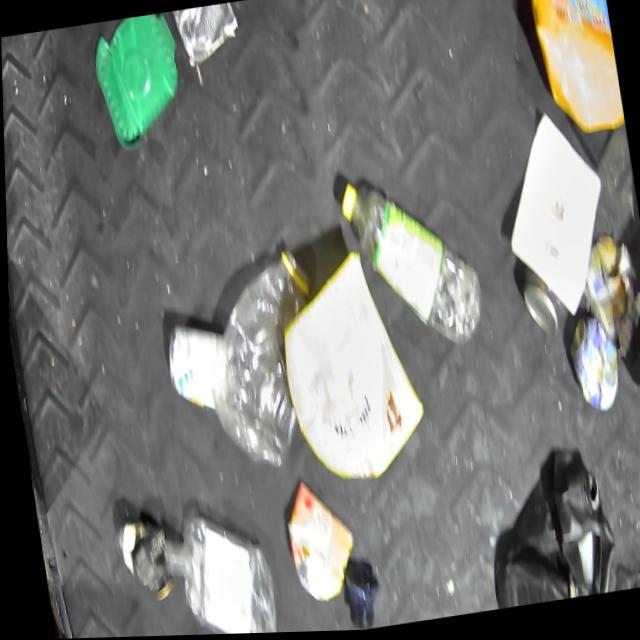can: (276, 473, 360, 610), (159, 317, 228, 420), (560, 314, 625, 422), (168, 2, 244, 72)
non_white_jug: (471, 444, 620, 612), (522, 0, 625, 147)
plastic_bottle: (186, 241, 336, 480), (335, 165, 489, 366)
